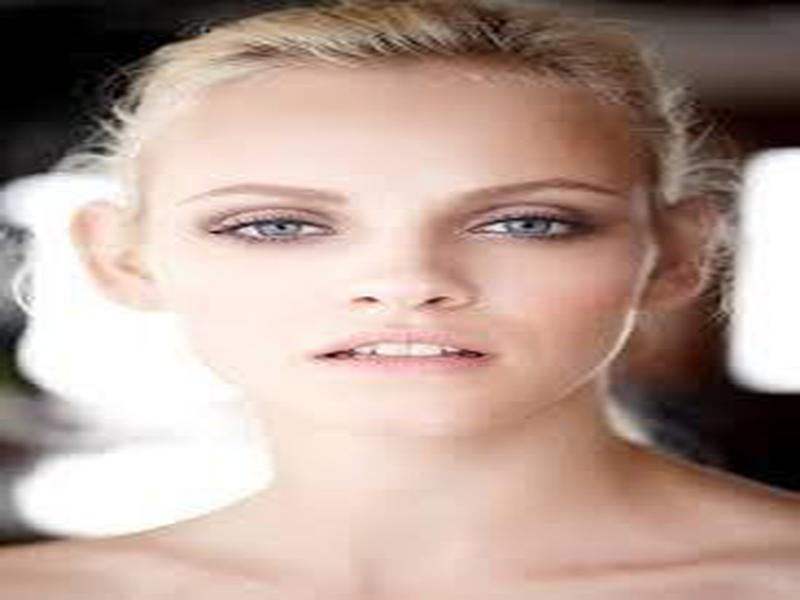without_mask: (146, 123, 644, 433)
